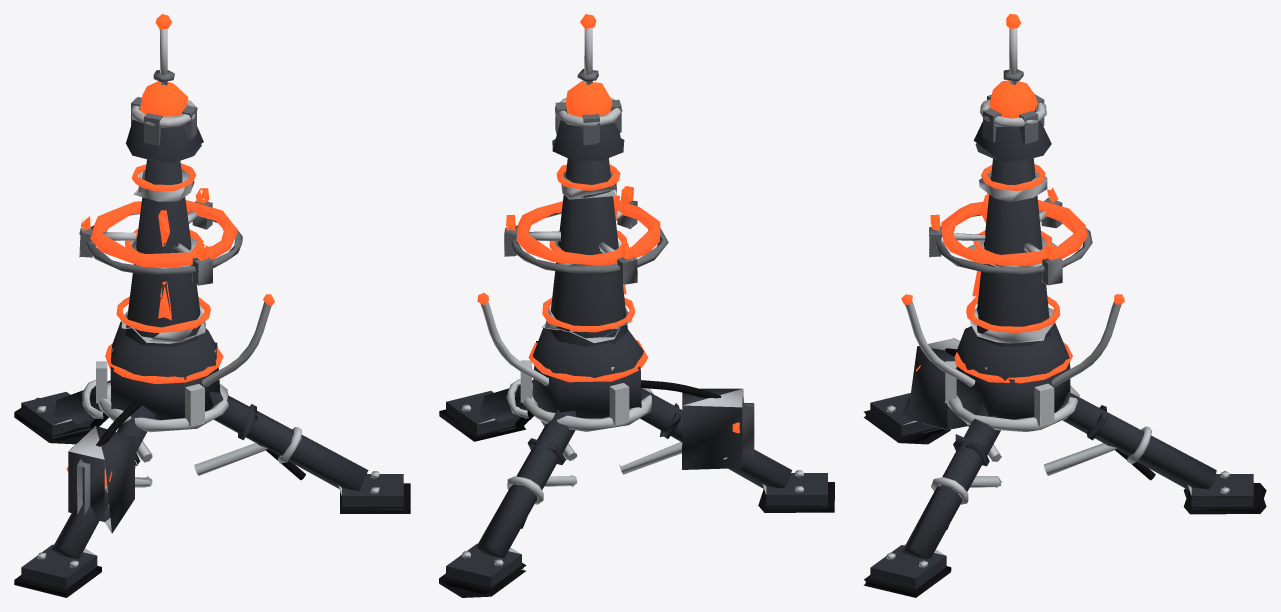
File: beacon.glb
3 views of the same model, side by side, from view 1: azimuth 30°, elevation 25°; view 2: azimuth 150°, elevation 25°; view 3: azimuth 270°, elevation 25° (orthographic).
Visible parts, largest first — view 1: mastil, caja, pata_3, mastil_base, emisor_luz, cubo, pata_2, cabeza, pata_pie_2, pata_pie_3, cubo_aro_bajo, pata_pie_1 (+17 smaller); view 2: mastil, caja, pata_1, mastil_base, cubo, emisor_luz, pata_2, cabeza, pata_pie_1, pata_pie_2, cubo_aro_bajo, emisor_aro (+17 smaller); view 3: mastil, pata_1, pata_3, mastil_base, emisor_luz, cubo, caja, pata_pie_3, cabeza, pata_pie_1, cubo_aro_bajo, cabeza_lente (+15 smaller).
Boxes of the visible parts, left/top/right/bottom form: mastil: left=125, top=159, right=200, bottom=346; caja: left=68, top=426, right=135, bottom=533; pata_3: left=209, top=392, right=368, bottom=490; mastil_base: left=111, top=321, right=217, bottom=379; emisor_luz: left=90, top=200, right=238, bottom=267; cubo: left=110, top=342, right=220, bottom=419; pata_2: left=51, top=405, right=155, bottom=559; cabeza: left=126, top=109, right=203, bottom=162; pata_pie_2: left=21, top=544, right=97, bottom=588; pata_pie_3: left=338, top=474, right=403, bottom=509; cubo_aro_bajo: left=98, top=382, right=228, bottom=432; pata_pie_1: left=21, top=391, right=95, bottom=438; mastil: left=549, top=158, right=627, bottom=346; caja: left=682, top=388, right=743, bottom=469; pata_1: left=476, top=409, right=576, bottom=558; mastil_base: left=532, top=328, right=643, bottom=377; cubo: left=532, top=341, right=641, bottom=418; emisor_luz: left=516, top=200, right=660, bottom=265; pata_2: left=640, top=388, right=791, bottom=488; cabeza: left=552, top=112, right=624, bottom=160; pata_pie_1: left=446, top=543, right=521, bottom=587; pata_pie_2: left=762, top=473, right=827, bottom=508; cubo_aro_bajo: left=523, top=382, right=653, bottom=431; emisor_aro: left=510, top=212, right=668, bottom=275; mastil: left=976, top=158, right=1050, bottom=346; pata_1: left=1062, top=392, right=1216, bottom=496; pata_3: left=901, top=403, right=1000, bottom=559; mastil_base: left=956, top=323, right=1069, bottom=380; emisor_luz: left=941, top=200, right=1087, bottom=266; cubo: left=956, top=362, right=1070, bottom=419; caja: left=907, top=338, right=967, bottom=429; pata_pie_3: left=870, top=544, right=946, bottom=589; cabeza: left=973, top=111, right=1051, bottom=162; pata_pie_1: left=1188, top=474, right=1253, bottom=509; cubo_aro_bajo: left=947, top=385, right=1079, bottom=431; cabeza_lente: left=989, top=80, right=1037, bottom=118.
Bounding box in the file's own units: 0.8089 × 0.9583 × 0.7118.
